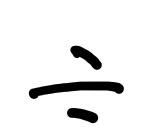div: (27, 45, 125, 123)
